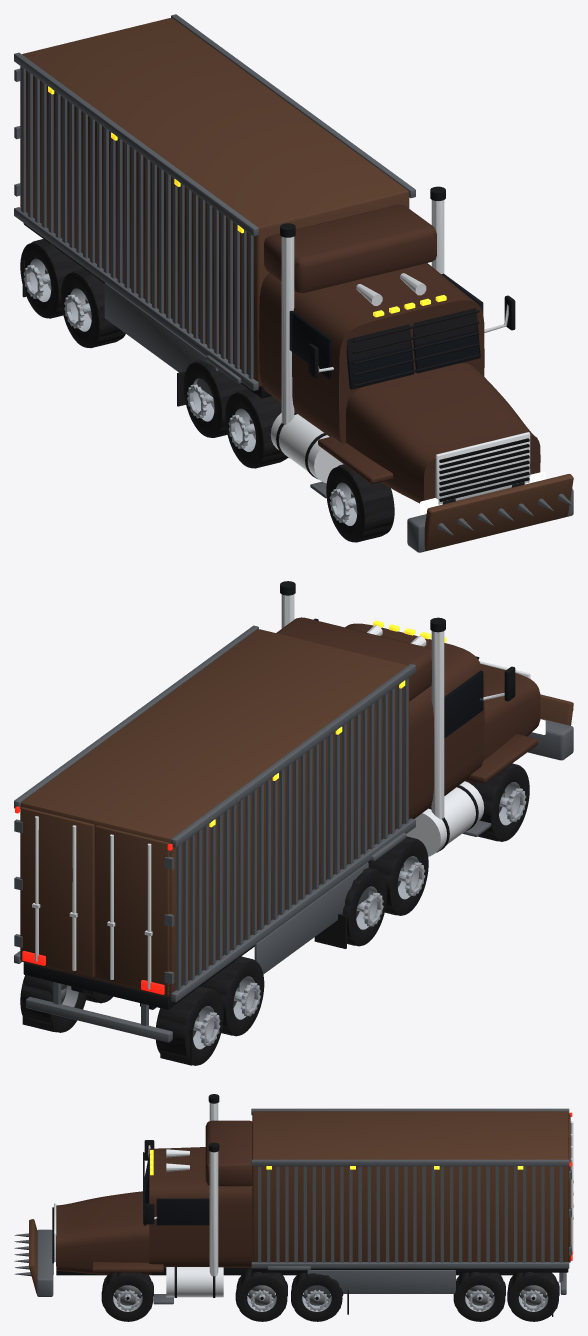
File: war-rig.glb
3 renders of one model, top to bottom at view 1: azimuth 30°, elevation 25°; view 2: azimuth 150°, elevation 25°; view 3: azimuth 270°, elevation 25°, orthographic. The views are drawn at different scales.
Parts seen in each view (by area): view 1: Body, WheelFL, WheelD1L, WheelT1L, WheelT2L, WheelD2L; view 2: Body, WheelT2L, WheelT1L, WheelD1L, WheelFL, WheelD2L, WheelT2R; view 3: Body, WheelD1R, WheelFR, WheelT1R, WheelT2R, WheelD2R.
Part boxes in pixels (bbox=[...]): Body: bbox=[14, 14, 573, 552]; WheelFL: bbox=[326, 464, 394, 542]; WheelD1L: bbox=[225, 389, 287, 468]; WheelT1L: bbox=[61, 268, 125, 348]; WheelT2L: bbox=[20, 239, 83, 318]; WheelD2L: bbox=[183, 360, 247, 437]; Body: bbox=[14, 581, 573, 1065]; WheelT2L: bbox=[156, 986, 223, 1065]; WheelT1L: bbox=[201, 956, 264, 1036]; WheelD1L: bbox=[368, 836, 428, 915]; WheelFL: bbox=[472, 763, 529, 841]; WheelD2L: bbox=[342, 867, 386, 946]; WheelT2R: bbox=[20, 975, 87, 1032]; Body: bbox=[14, 1094, 573, 1316]; WheelD1R: bbox=[235, 1268, 287, 1321]; WheelFR: bbox=[101, 1272, 153, 1321]; WheelT1R: bbox=[453, 1272, 505, 1321]; WheelT2R: bbox=[507, 1272, 559, 1321]; WheelD2R: bbox=[291, 1272, 343, 1321].
Size of the model in its own units: 3.21 by 4.04 by 11.69.
